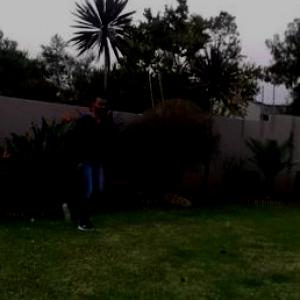follow: (67, 92, 107, 229)
